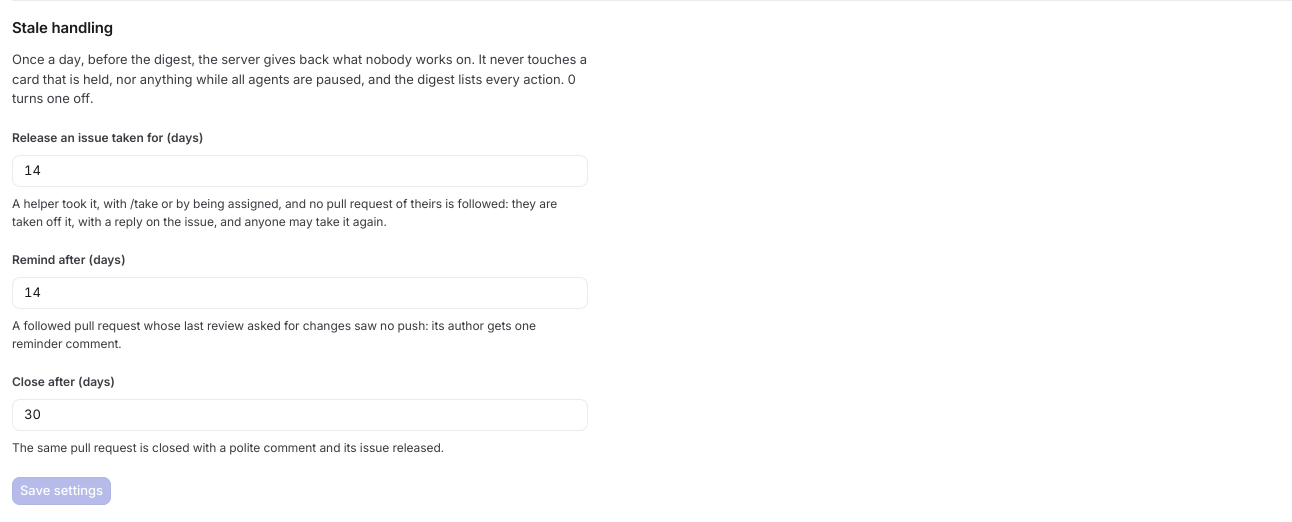
Test: the stale handling box › refuses a close that comes before the reminder, and a number that is no number of days
This screenshot has width=1292, height=522.
expect the number field labelled "Remind after (days)" holds "14": met, box [12,276,588,308]
Replace the text in the number field labelled "Close after (days)" with "10": (300, 414) [12,398,588,430]
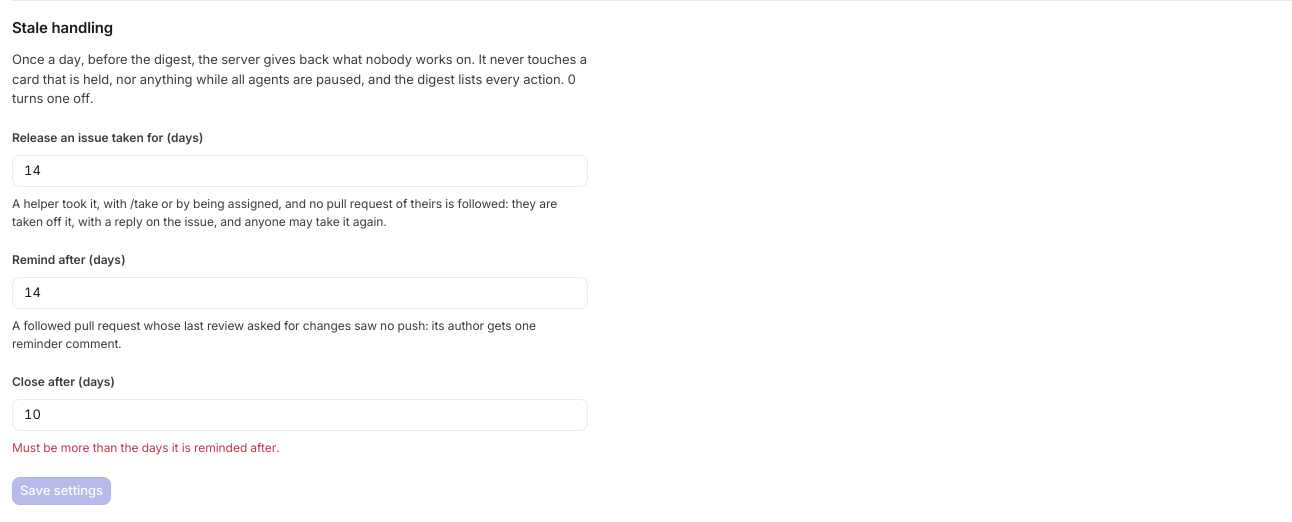
expect the button "Save settings" is disabled: met, box [12,476,111,504]
expect the text "Must be more than the days it is reminded after." is shown: met, box [12,440,280,454]
Replace the text in the number field labelled "Close after (days)" with "0": (300, 414) [12,398,588,430]
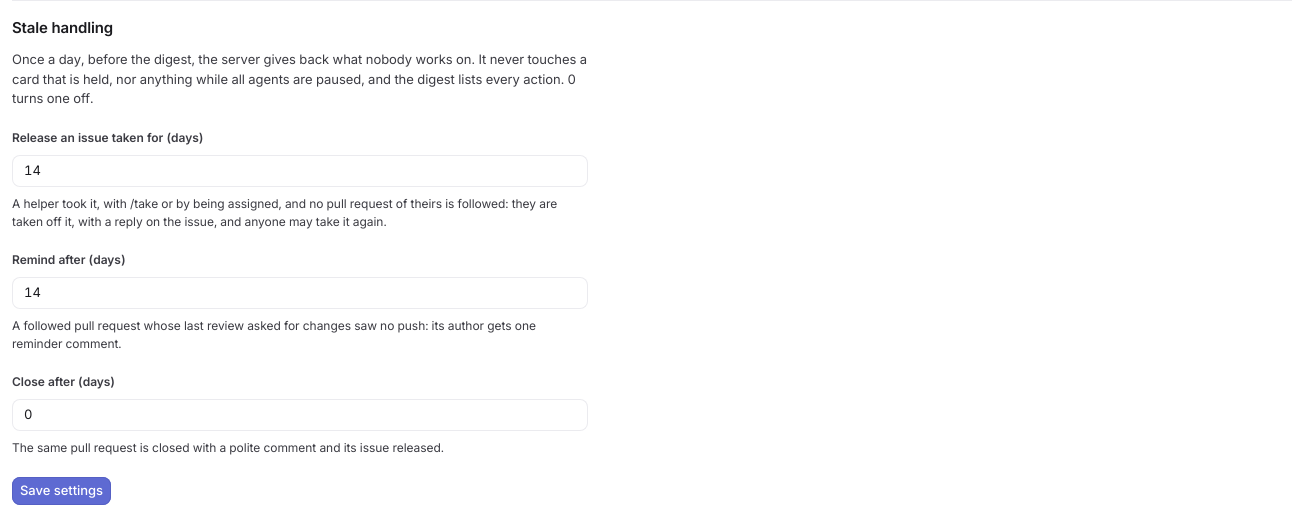
expect the button "Save settings" is enabled: met, box [12,476,111,504]
Replace the text in the number field labelled "Remind after (days)" with "400": (300, 292) [12,276,588,308]
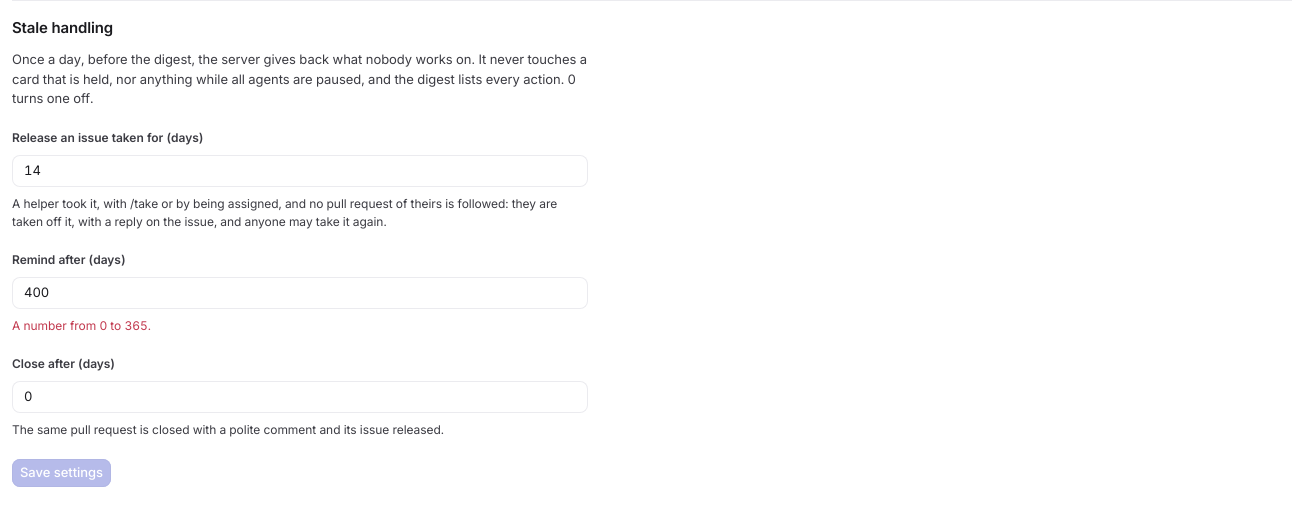
expect the text "A number from 0 to 365." is shown: met, box [12,318,151,332]
expect the button "Save settings" is disabled: met, box [12,458,111,486]
